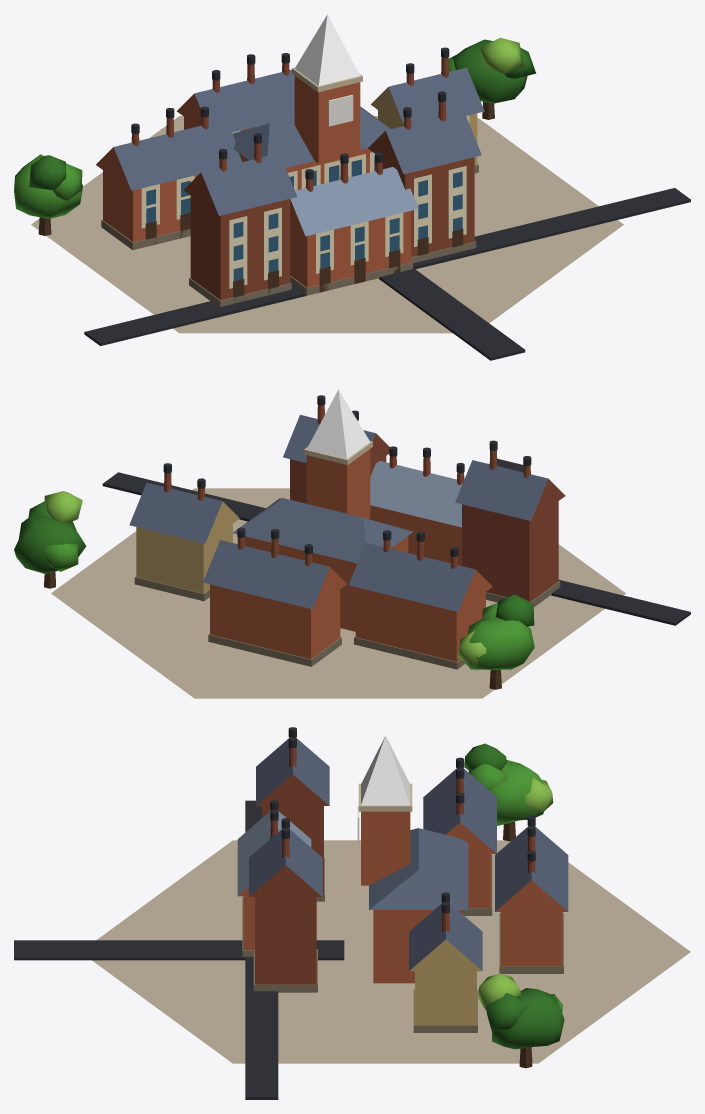
Rendered from city_2_2.fbx.
The picture shows the model from 3 angles, top to bottom: view 1: azimuth 30°, elevation 25°; view 2: azimuth 150°, elevation 25°; view 3: azimuth 270°, elevation 25°; orthographic projection. The views are drawn at different scales.
Visible parts, largest first — view 1: city_2_2; view 2: city_2_2; view 3: city_2_2.
Boxes of the visible parts, box(x1,y1,x2,y2) form: city_2_2: box(14, 14, 690, 360); city_2_2: box(14, 389, 690, 698); city_2_2: box(14, 727, 690, 1099).
Bounding box in the file's own units: 241 × 82.24 × 233.
